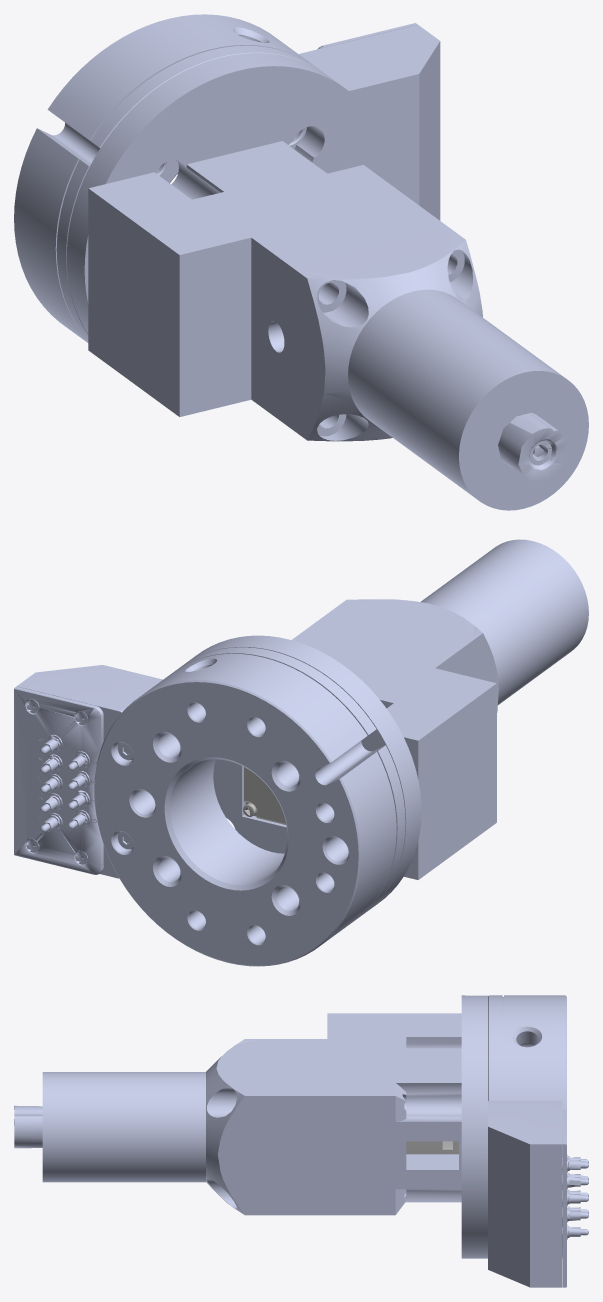
File: screwdriver_p0.glb
3 renders of one model, top to bottom at view 1: azimuth 30°, elevation 25°; view 2: azimuth 150°, elevation 25°; view 3: azimuth 270°, elevation 25°, orthographic. The views are drawn at different scales.
Size of the model in its own units: 0.0649 by 0.05 by 0.1092.
